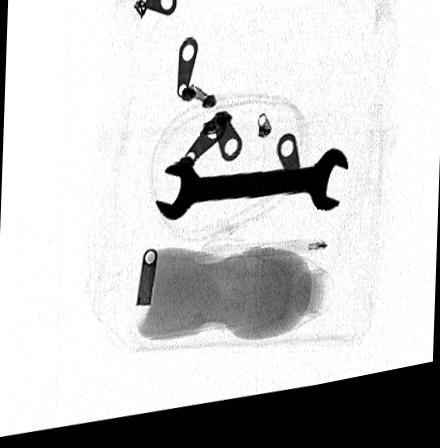Wrench: (152, 161, 347, 227)
